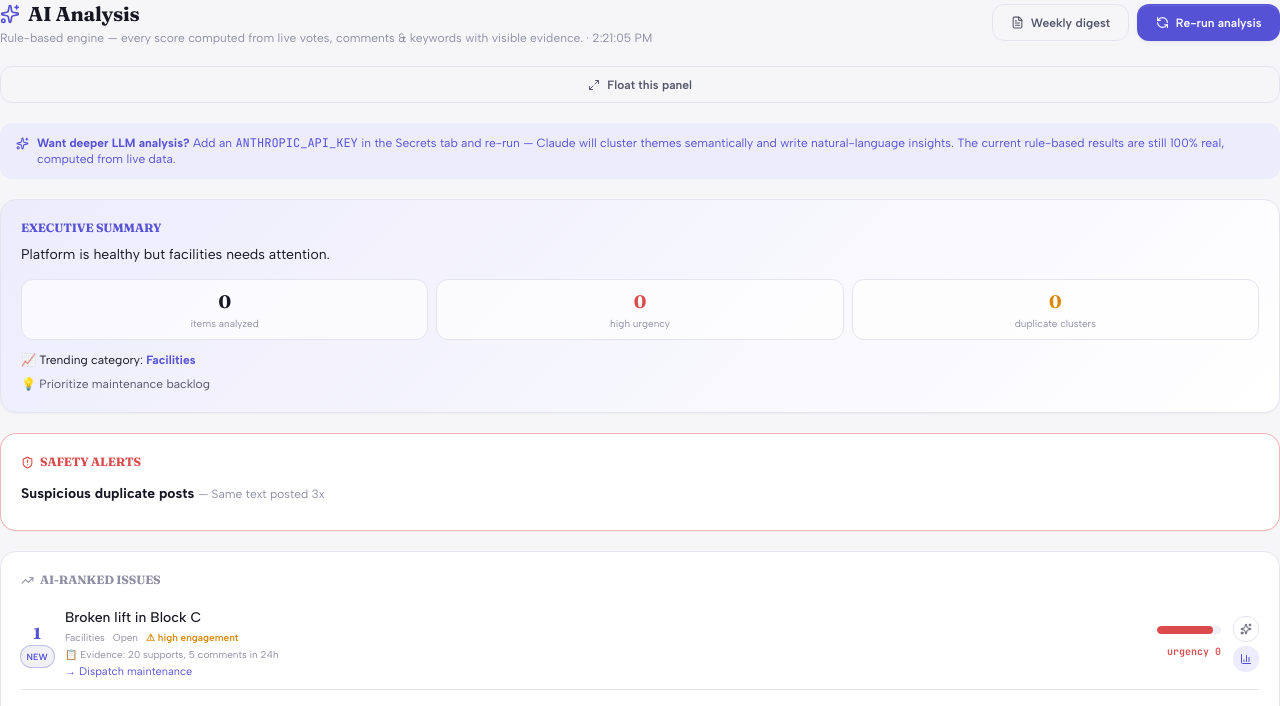
Test: AiPanel (AI Analysis) › floats the panel and back
The width and height of the screenshot is (1280, 706).
Expected: the heading "AI Analysis" is shown, [0,1,139,26]
What coordinates should you click on to do the following:
click the button "Float this panel"
I would click on:
 (640, 85)
Its box is [0,66,1279,103].
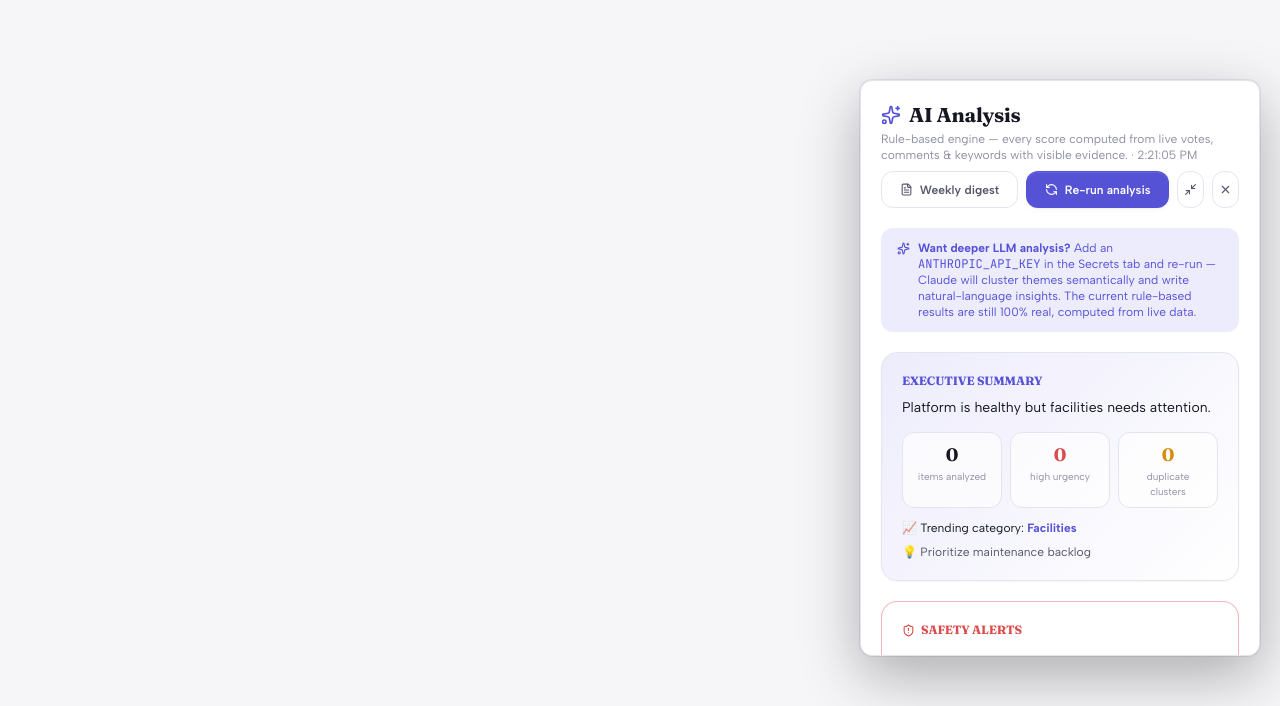
Expected: the button titled "Dock panel" is shown
What coordinates should you click on to do the following:
click the button titled "Dock panel"
I would click on:
 (1225, 190)
Its box is [1212,171,1239,208].
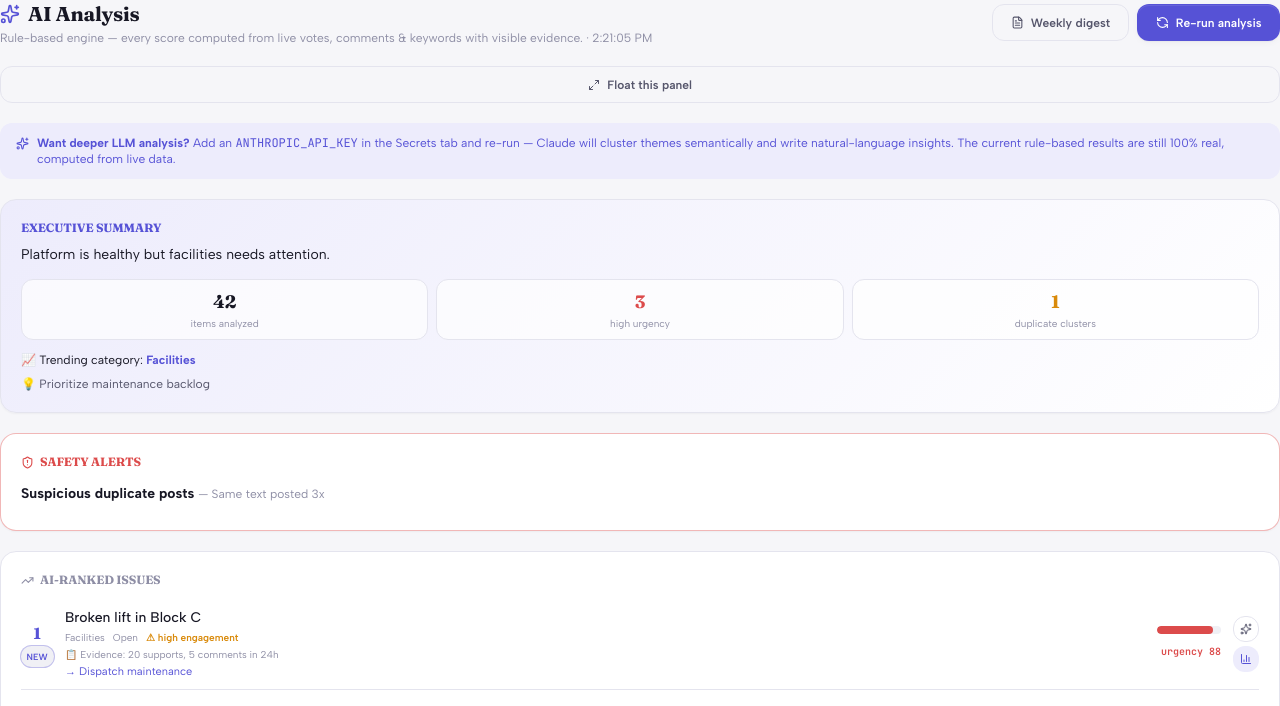
Expected: the button "Float this panel" is shown, [0,66,1279,103]
